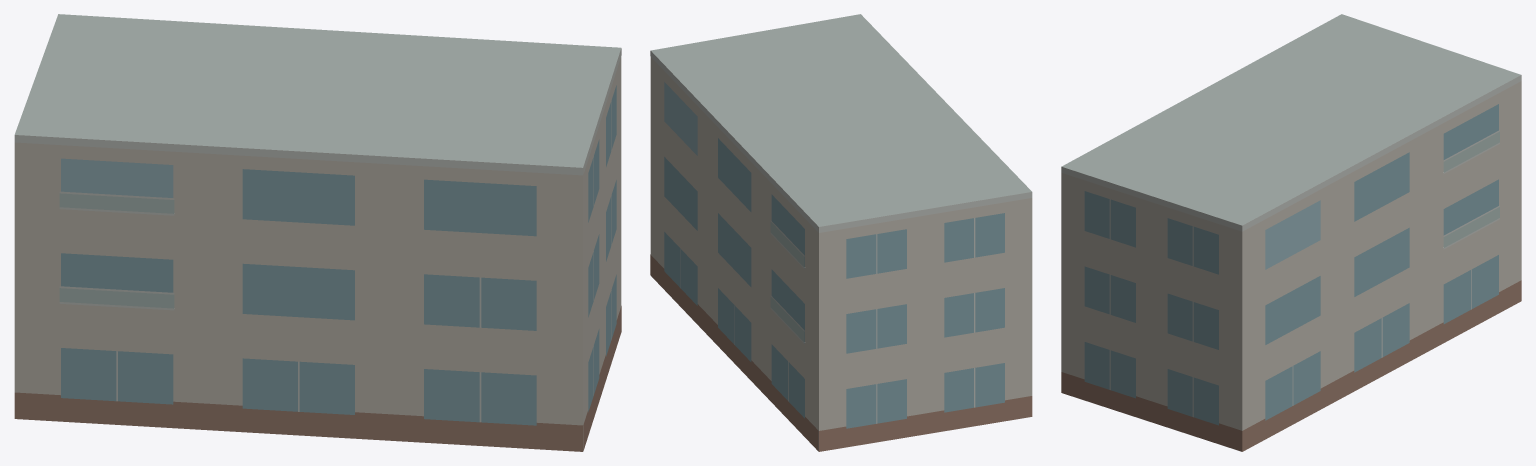
File: survey-upis-32479656.glb
3 views of the same model, side by side, from view 1: azimuth 30°, elevation 25°; view 2: azimuth 150°, elevation 25°; view 3: azimuth 270°, elevation 25° (orthographic). The views are drawn at different scales.
Visible parts, largest first — view 1: survey-upis-32479656.tmp; view 2: survey-upis-32479656.tmp; view 3: survey-upis-32479656.tmp.
Part boxes in pixels (x1,y1,x2,y2): survey-upis-32479656.tmp: [14, 14, 621, 451]; survey-upis-32479656.tmp: [650, 14, 1032, 451]; survey-upis-32479656.tmp: [1061, 14, 1521, 451].
Bounding box in the file's own units: 18.37 × 9.15 × 16.88.
